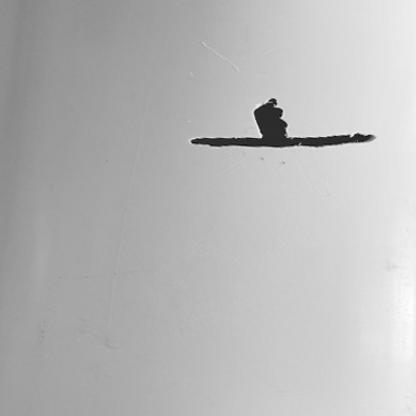fengxi: (188, 134, 379, 148)
kongdong: (252, 97, 294, 138)
